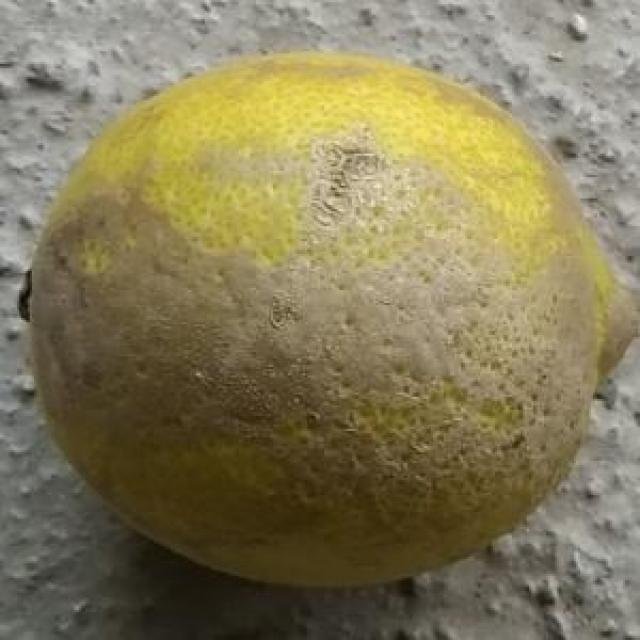lemon: (17, 57, 638, 592)
